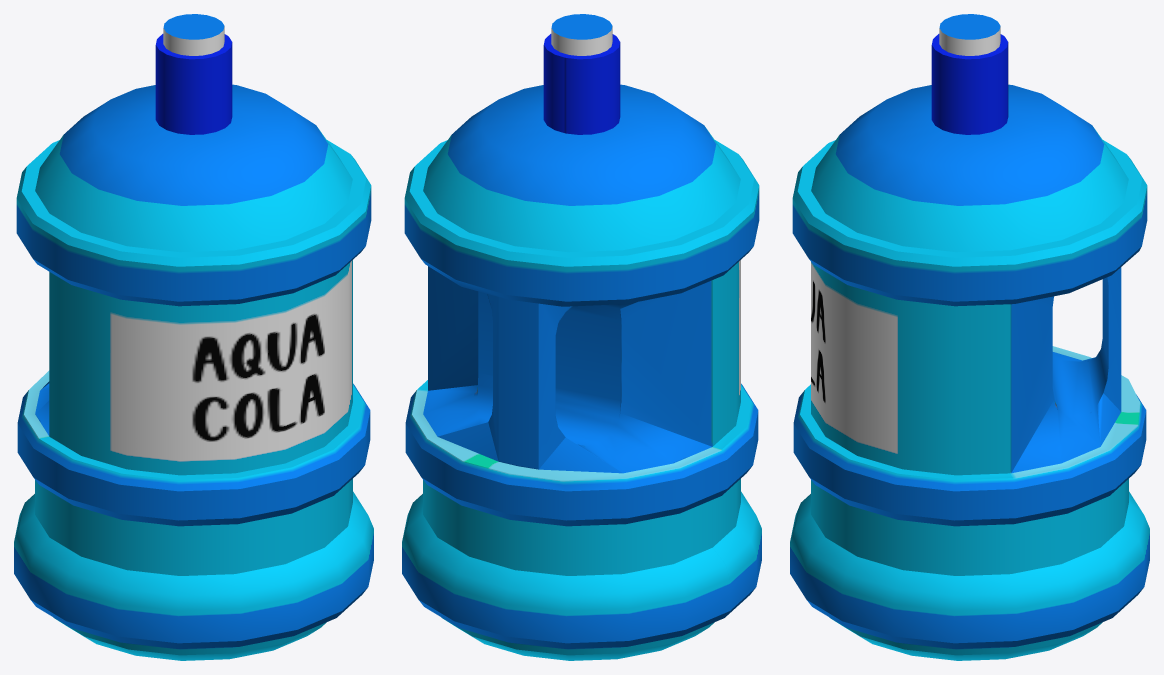
The model's file is WaterJug.FBX.
3 views of the same model, side by side, from view 1: azimuth 30°, elevation 25°; view 2: azimuth 150°, elevation 25°; view 3: azimuth 270°, elevation 25° (orthographic).
Visible parts, largest first — view 1: Cylinder002; view 2: Cylinder002; view 3: Cylinder002.
Part boxes in pixels (x1,y1,x2,y2): Cylinder002: [14, 14, 373, 660]; Cylinder002: [402, 14, 761, 660]; Cylinder002: [790, 14, 1149, 660].
Bounding box in the file's own units: 2825 × 2825 × 4991.
1 material, 1 textured.
